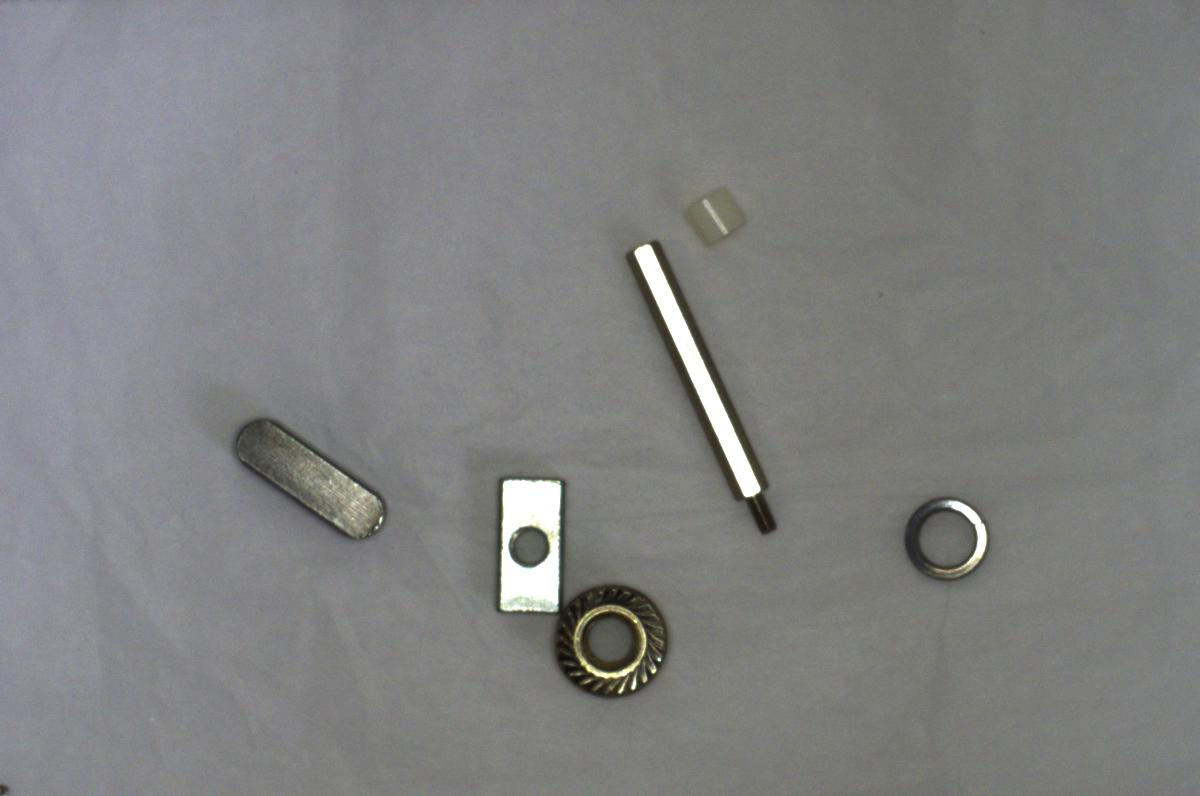Flange nut: (546, 578, 679, 699)
Hexagonal steel column: (625, 235, 790, 540)
Keybar: (232, 415, 397, 542)
Plastic cushion pillar: (677, 179, 747, 249)
Rectangular nut: (490, 469, 566, 626)
Spring washer: (899, 485, 994, 589)
